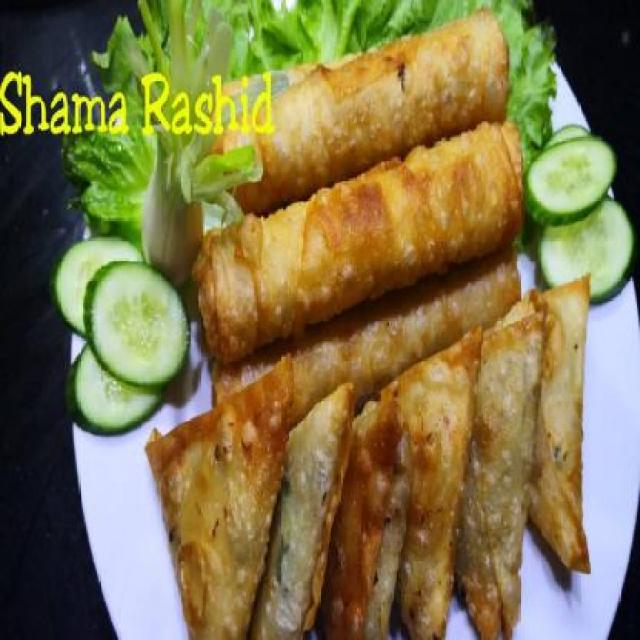samosa: (127, 288, 591, 640)
spring rolls: (190, 13, 525, 349)
